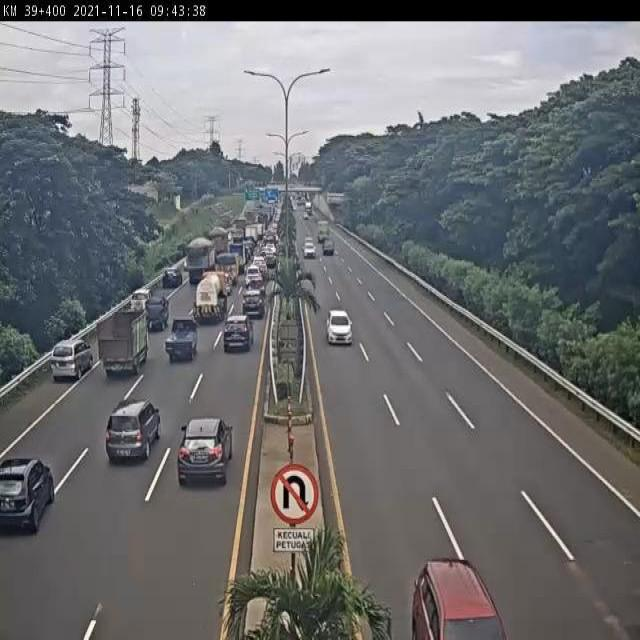car: (394, 544, 509, 640), (0, 452, 56, 537), (177, 415, 235, 489), (105, 397, 160, 463), (51, 337, 93, 380), (233, 282, 269, 330), (164, 316, 200, 364), (222, 313, 256, 355), (120, 285, 153, 323), (238, 259, 268, 296), (326, 308, 352, 348), (145, 292, 169, 332), (244, 276, 270, 307), (162, 266, 181, 290)
small truck: (96, 311, 147, 381), (214, 252, 239, 287)
truck-m-: (194, 271, 231, 324), (187, 236, 216, 287)
